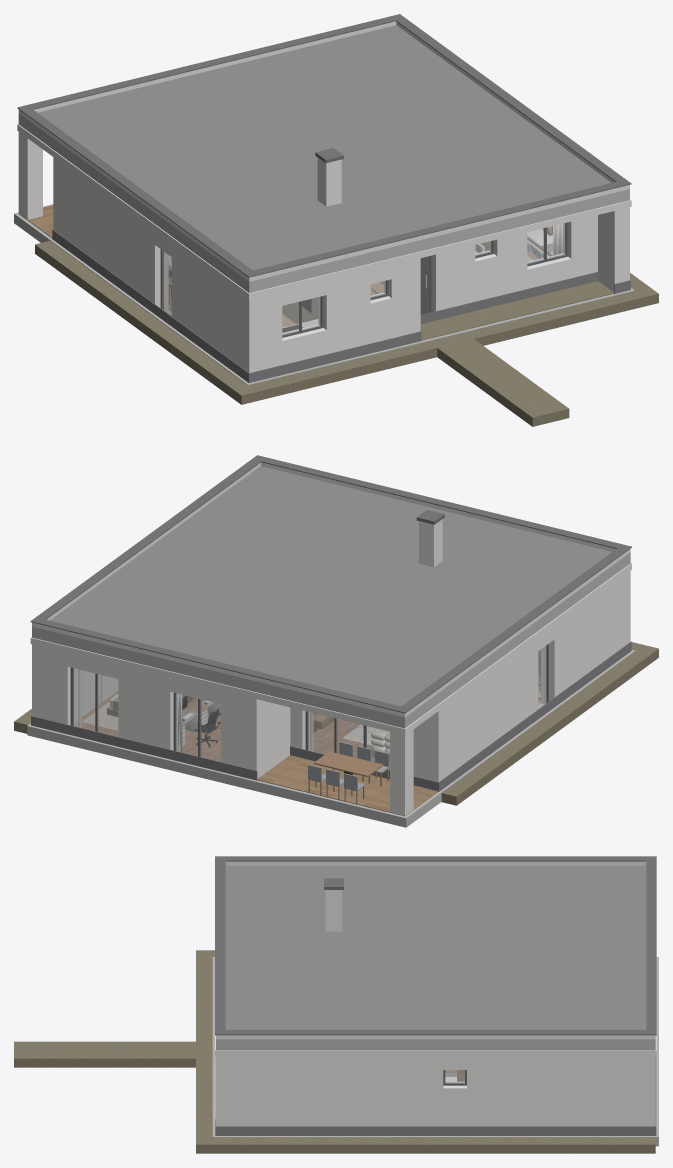
The model's file is bungalov.glb.
The picture shows the model from 3 angles, top to bottom: view 1: azimuth 30°, elevation 25°; view 2: azimuth 150°, elevation 25°; view 3: azimuth 270°, elevation 25°; orthographic projection. The views are drawn at different scales.
Visible parts, largest first — view 1: Roof membrane, Ext W1 end, Roof slab, Path S, Ext W1 0, Path W, Walkway, Ext S1 1, Floor 0.01 Vstup, Ext S1 0, Fascia S, Parapet S coping (+28 smaller); view 2: Roof membrane, Roof slab, Ext W1 end, Foundation slab, Ext W1 0, Path W, Ext N2 1, Floor 0.02 Terasa, Ext N2 0, Fascia N, Parapet N coping, Parapet S coping (+25 smaller); view 3: Roof membrane, Ext E 0, Ext E end, Path E, Roof slab, Walkway, Plinth.003, Path S, Fascia E, Parapet W coping, Parapet E coping, Ext wing end (+7 smaller).
Boxes of the visible parts, x1,y1,x2,y2 form: Roof membrane: (37, 25, 611, 270); Ext W1 end: (61, 163, 168, 310); Roof slab: (18, 113, 629, 292); Path S: (231, 292, 640, 404); Ext W1 0: (171, 244, 241, 366); Path W: (35, 241, 245, 396); Walkway: (437, 339, 569, 426); Ext S1 1: (318, 270, 370, 353); Floor 0.01 Vstup: (420, 281, 613, 340); Ext S1 0: (241, 292, 282, 372); Fascia S: (243, 199, 631, 299); Parapet S coping: (243, 179, 631, 277); Roof membrane: (50, 466, 611, 706); Roof slab: (32, 552, 630, 728); Ext W1 end: (446, 638, 538, 776); Foundation slab: (27, 650, 634, 827); Ext W1 0: (541, 576, 622, 704); Path W: (441, 652, 648, 805); Ext N2 1: (118, 665, 177, 751); Floor 0.02 Terasa: (257, 755, 438, 815); Ext N2 0: (221, 690, 264, 778); Fascia N: (30, 637, 410, 735); Parapet N coping: (30, 618, 410, 713); Parapet S coping: (252, 455, 631, 550); Roof membrane: (225, 865, 646, 1029); Ext E 0: (248, 1056, 443, 1126); Ext E end: (467, 1056, 655, 1126); Path E: (196, 1136, 655, 1153); Roof slab: (216, 1039, 655, 1050); Walkway: (14, 1041, 195, 1067); Plinth.003: (215, 1126, 656, 1135); Path S: (196, 950, 214, 1136); Fascia E: (226, 1050, 645, 1056); Parapet W coping: (223, 856, 648, 861); Parapet E coping: (223, 1030, 647, 1035); Ext wing end: (216, 1056, 247, 1126).
Size of what is drawn, in the model's own units: 13.65 by 4.96 by 19.15.
65 materials, 17 textured.
